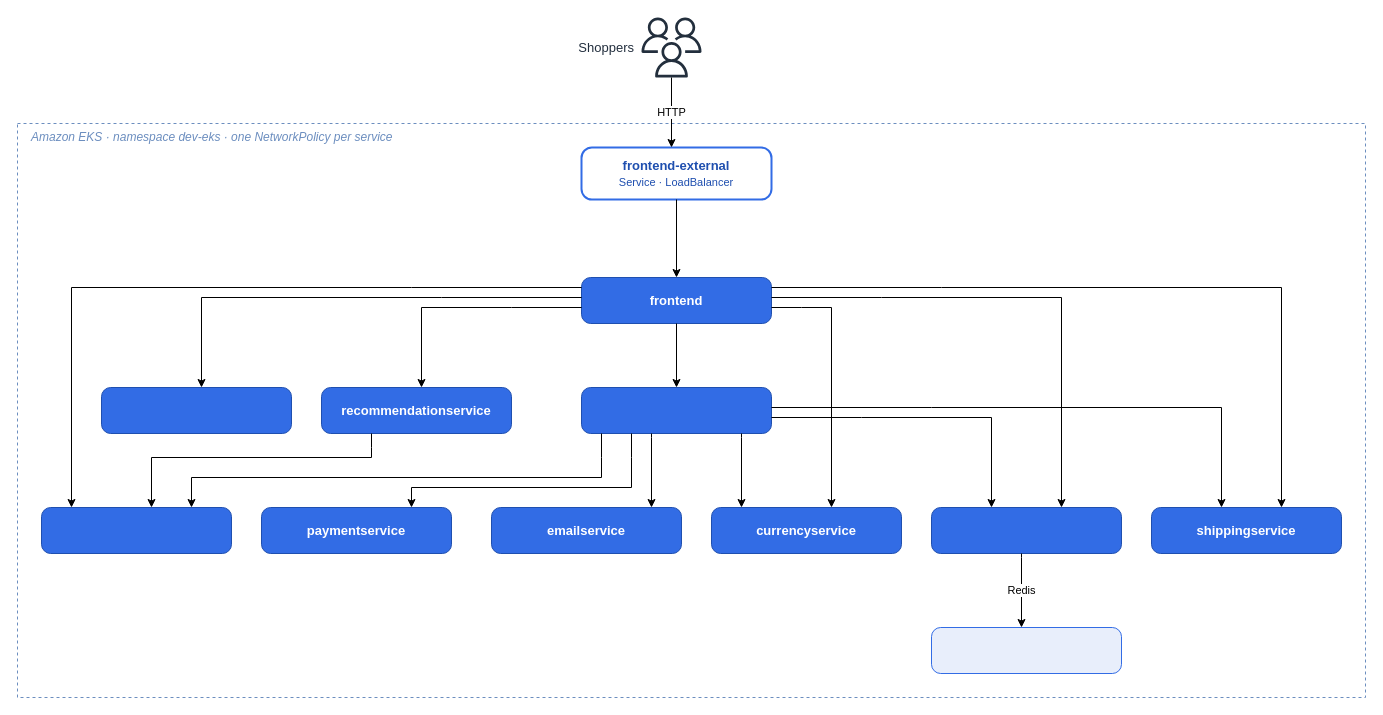
Image size: 1383x715. Some labels were removed from this diagram. Here are the shapes that lost their labels. From the top down, the centre of each, then its label:
At point 196,410: "adservice".
At point 676,410: "checkoutservice".
At point 136,530: "productcatalogservice".
At point 1026,530: "cartservice".
At point 1026,650: "redis-cart".
